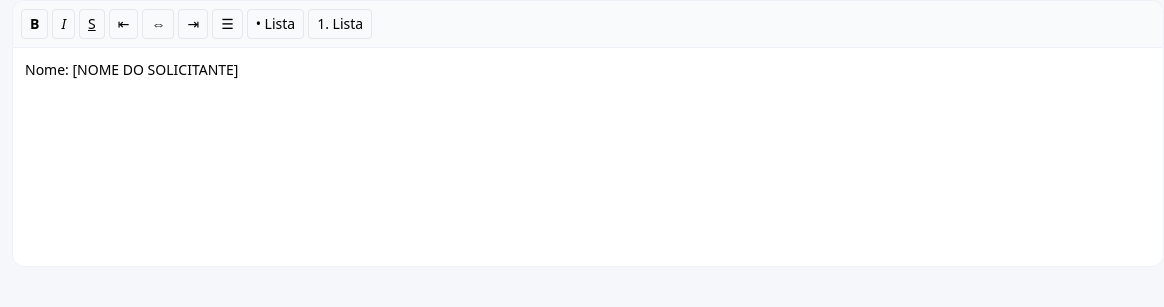
Test case: EditorFormatado › destaca lacunas pendentes sem impedir a digitação
Step 1. Clear the field named "Conteúdo do modelo" → (588, 157), box [12,47,1163,267]
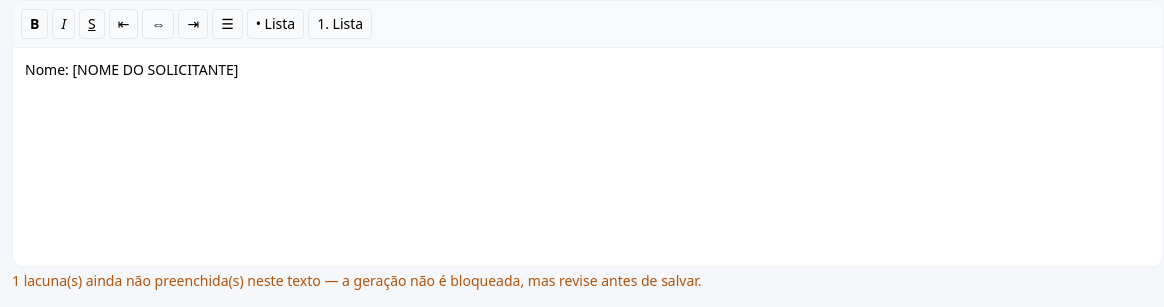
Expected: the message shows "1 lacuna(s) ainda não preenchida", [12,271,702,290]
